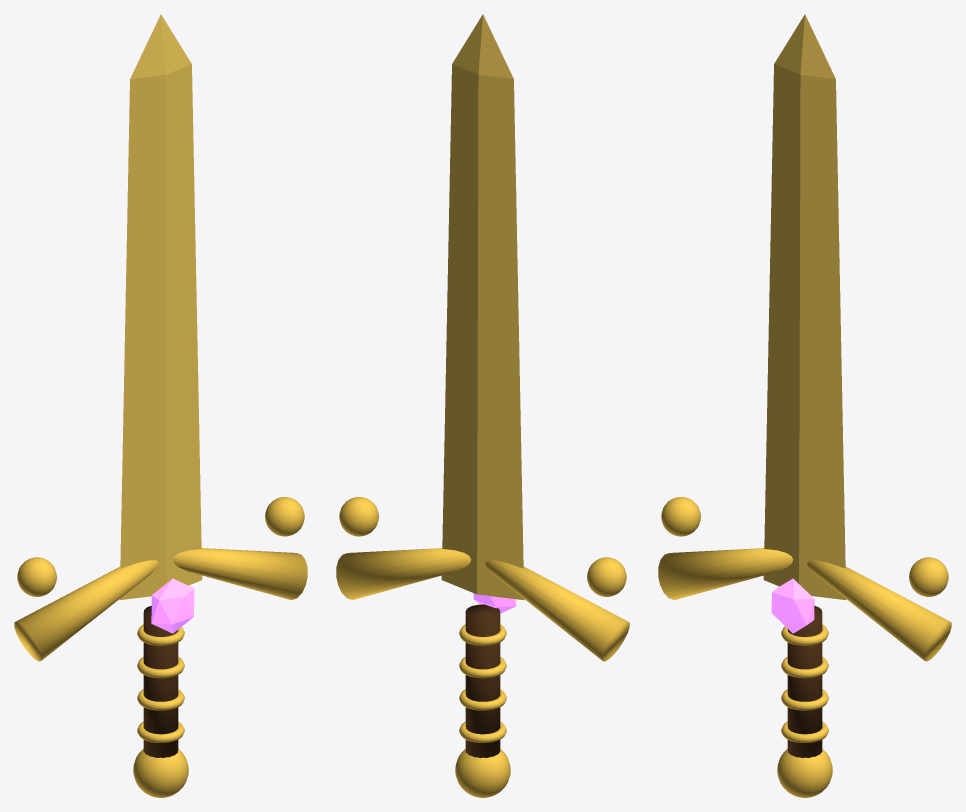
File: sword-4.glb
3 renders of one model, left to right at view 1: azimuth 30°, elevation 25°; view 2: azimuth 150°, elevation 25°; view 3: azimuth 330°, elevation 25°, orthographic.
Visible parts, largest first — view 1: Blade, Wrap0, Gem; view 2: Blade, Wrap0; view 3: Blade, Wrap0, Gem.
Boxes of the visible parts, bbox=[...] form: Blade: bbox=[14, 14, 307, 797]; Wrap0: bbox=[137, 624, 184, 742]; Gem: bbox=[151, 578, 194, 633]; Blade: bbox=[336, 14, 629, 797]; Wrap0: bbox=[459, 624, 506, 742]; Blade: bbox=[658, 14, 951, 797]; Wrap0: bbox=[781, 624, 828, 742]; Gem: bbox=[771, 578, 814, 633].
Size of the model in its own units: 0.41 by 1.09 by 0.0799.
4 materials, 4 textured.
